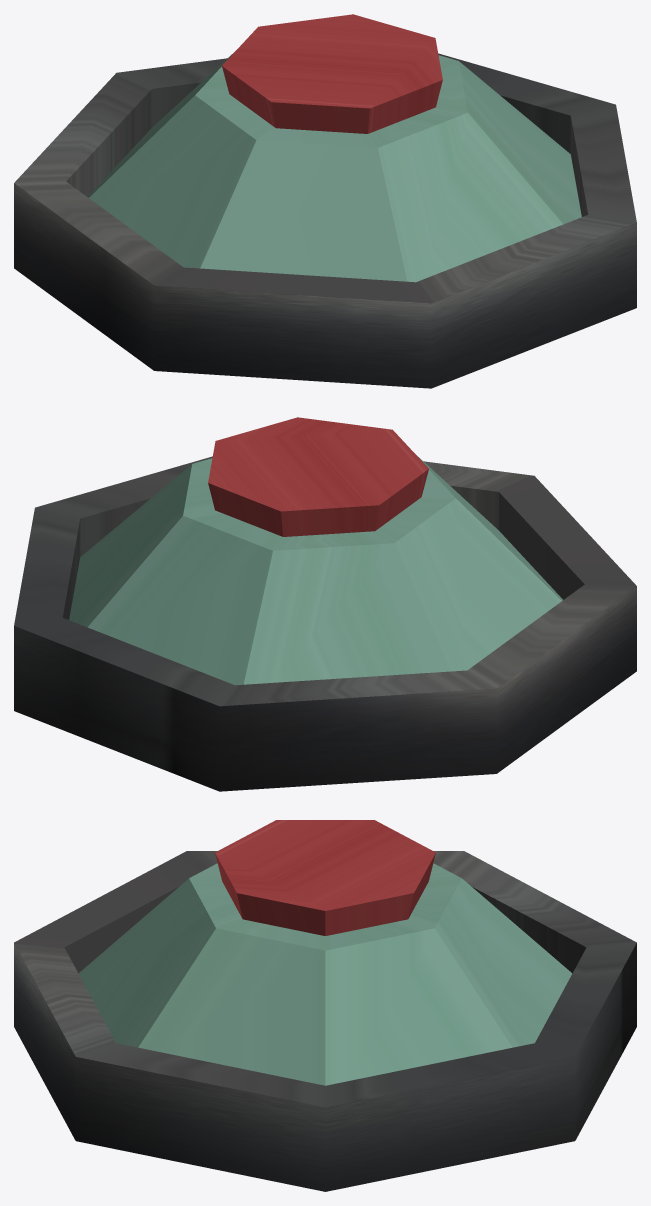
The model's file is door_bell.FBX.
3 views of the same model, one above another, from view 1: azimuth 30°, elevation 25°; view 2: azimuth 150°, elevation 25°; view 3: azimuth 270°, elevation 25° (orthographic).
Visible parts, largest first — view 1: Object002, Cylinder001, Object001; view 2: Object002, Cylinder001, Object001; view 3: Object002, Cylinder001, Object001.
Boxes of the visible parts, box(x1,y1,x2,y2) form: Object002: box(14, 53, 636, 388); Cylinder001: box(88, 51, 581, 282); Object001: box(222, 14, 442, 133); Object002: box(14, 456, 636, 791); Cylinder001: box(69, 454, 562, 685); Object001: box(208, 417, 428, 536); Object002: box(14, 851, 636, 1191); Cylinder001: box(78, 863, 572, 1085); Object001: box(215, 820, 435, 935).
Size of the model in its own units: 58.98 by 20.76 by 60.49.
Materials: 3 (3 with a texture image).
